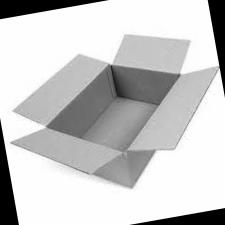cardboard: (0, 6, 225, 220)
